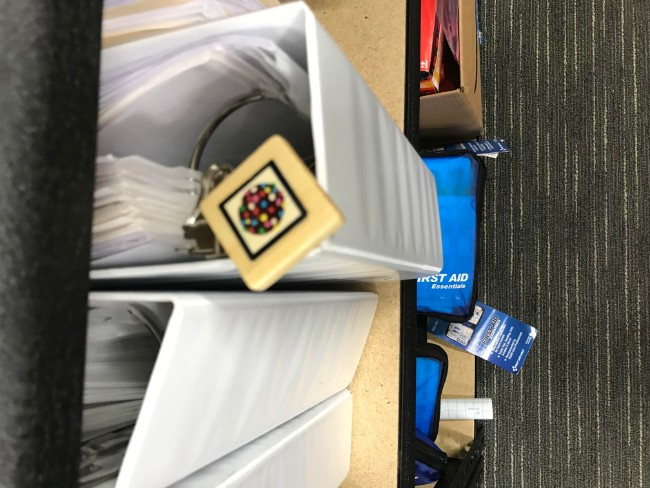cookie: (209, 158, 317, 265)
